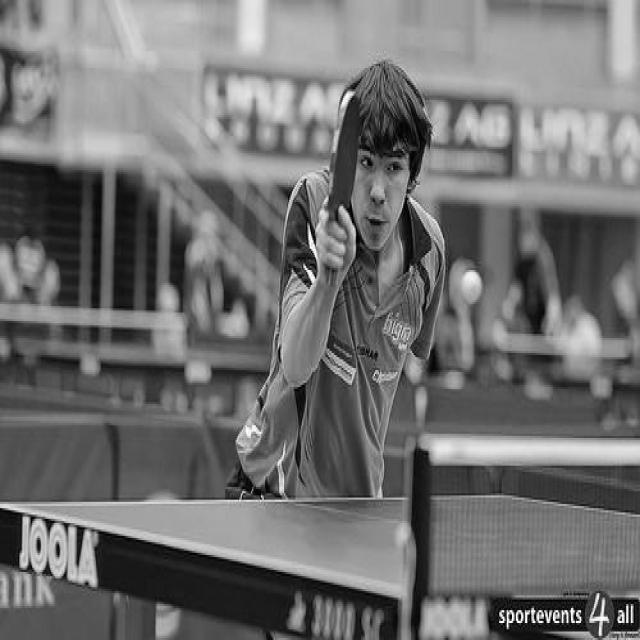ping-pong-ball: (460, 268, 484, 306)
